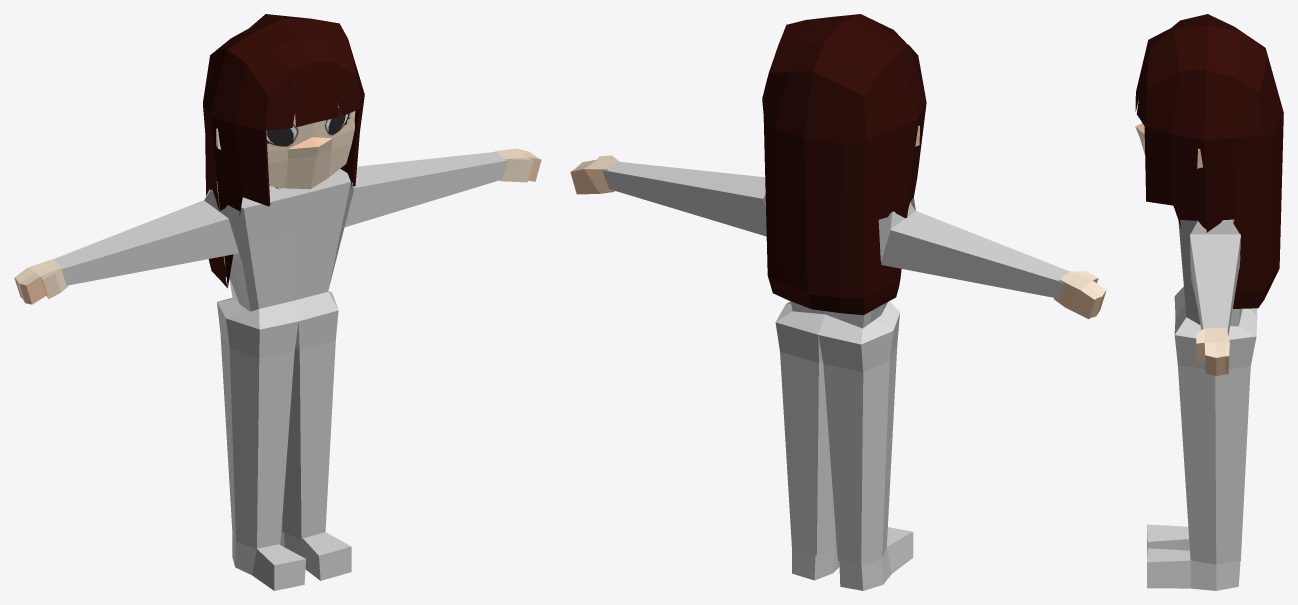
The model's file is Npctesfbx.fbx.
3 views of the same model, side by side, from view 1: azimuth 30°, elevation 25°; view 2: azimuth 150°, elevation 25°; view 3: azimuth 270°, elevation 25° (orthographic).
Parts seen in each view (by area): view 1: Baju, rambut, Muka cewe 1; view 2: Baju, rambut, Muka cewe 1; view 3: rambut, Baju, Muka cewe 1.
Part boxes in pixels (left/top/right/bottom): Baju: left=52, top=152, right=507, bottom=590; rambut: left=203, top=14, right=364, bottom=288; Muka cewe 1: left=14, top=103, right=541, bottom=304; Baju: left=602, top=162, right=1069, bottom=590; rambut: left=762, top=14, right=926, bottom=315; Muka cewe 1: left=570, top=126, right=1106, bottom=319; rambut: left=1135, top=14, right=1283, bottom=308; Baju: left=1147, top=219, right=1257, bottom=590; Muka cewe 1: left=1135, top=123, right=1229, bottom=375.
Size of the model in its own units: 345 by 344 by 85.03.
Materials: 2 (1 with a texture image).
